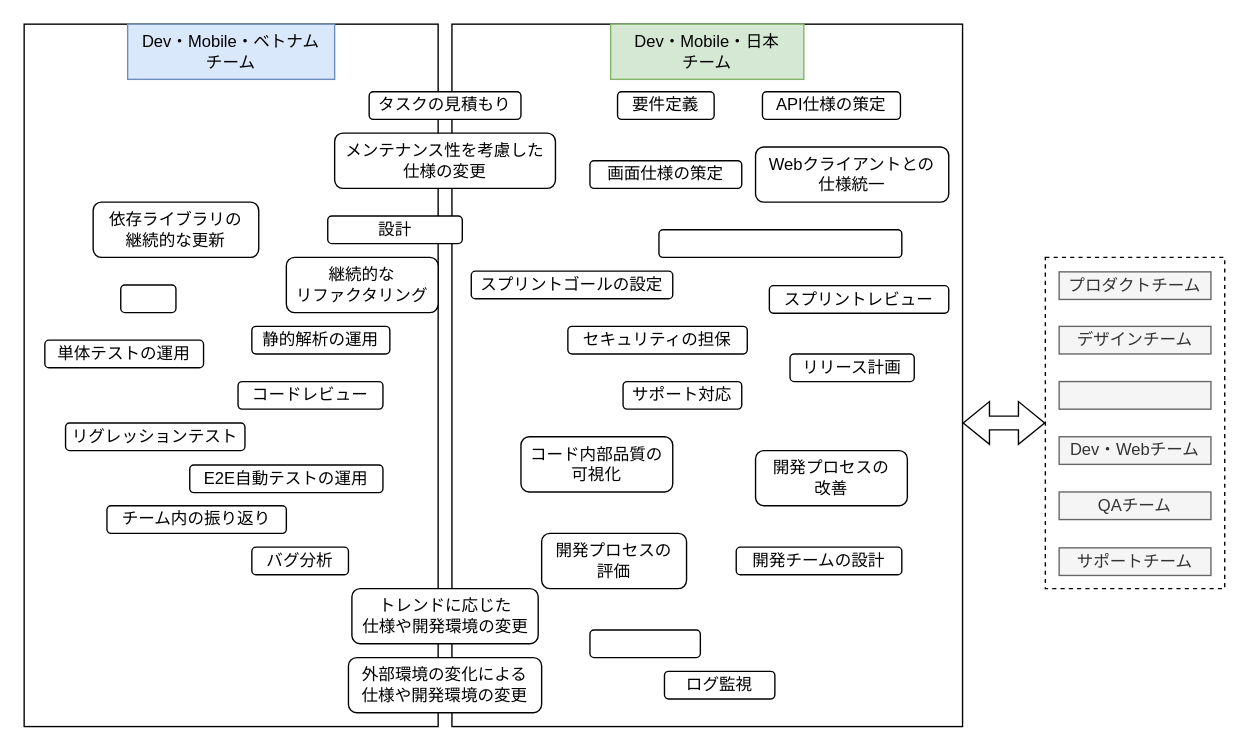
This 1249x751 diagram has some shape labels left out. The shapes that lost their labels are listed below. From the top down, each one's centre as x and y in pixels, then its label:
point 780,242: 仕様のドキュメンテーション
point 147,298: 実装
point 1134,394: Dev・APIチーム
point 644,643: デプロイ
